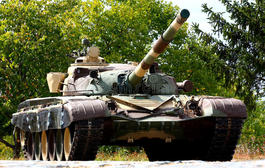t72: (19, 6, 246, 159)
